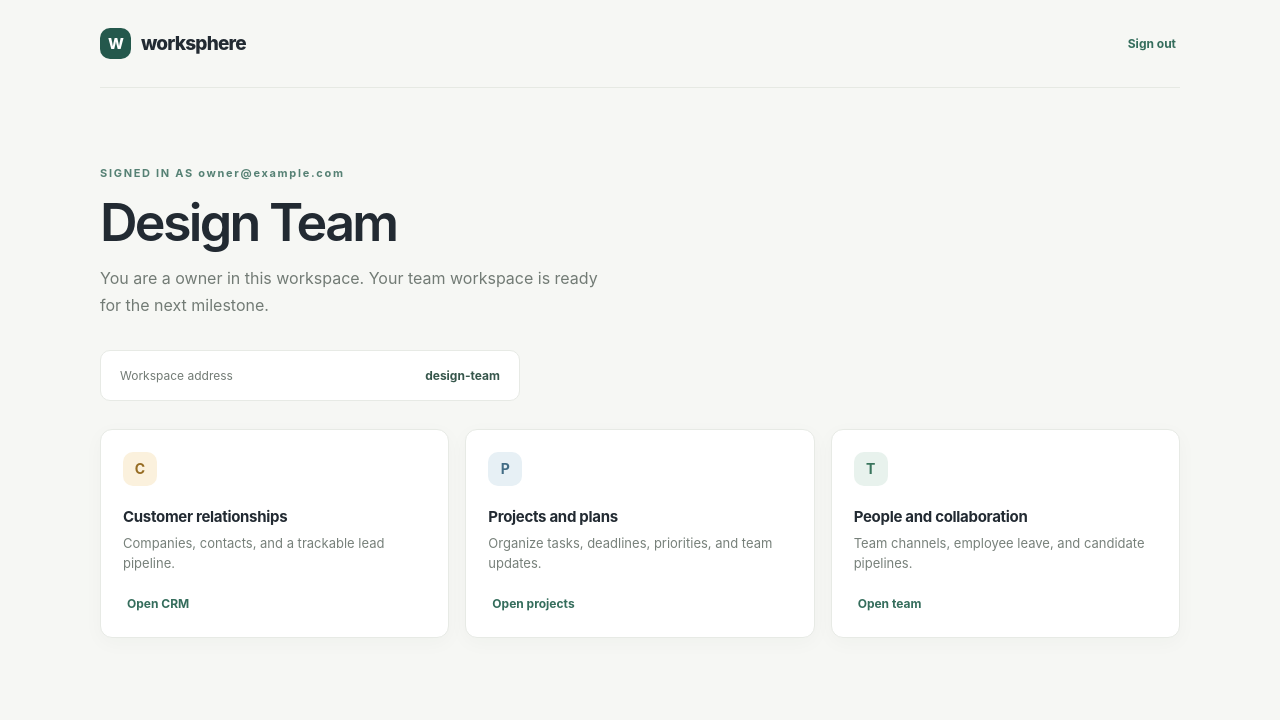
WorkSphere authentication flow › opens the Team screen from the signed-in workspace
Click the button "Open team" at x=890, y=603, box [854,592,925,615]
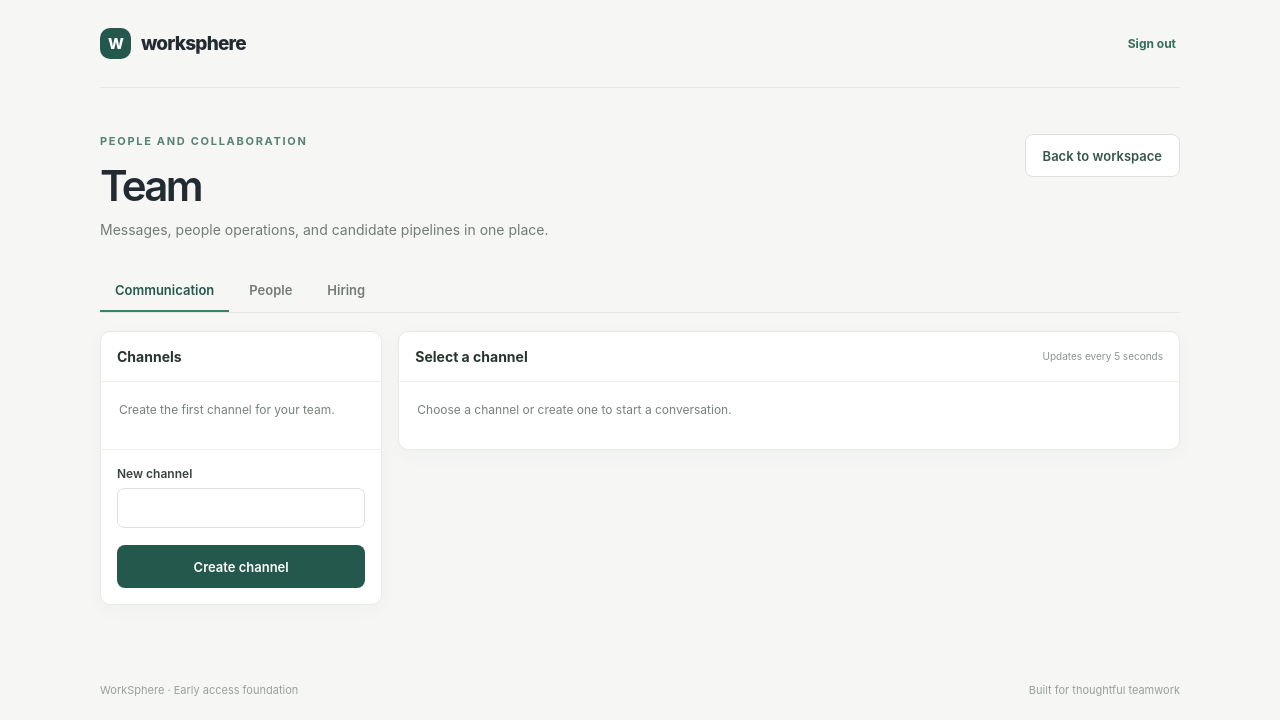
expect the button "Communication" is shown: met, box [100,270,229,312]
expect the button "People" is shown: met, box [234,270,307,312]
expect the button "Hiring" is shown: met, box [312,270,380,312]
